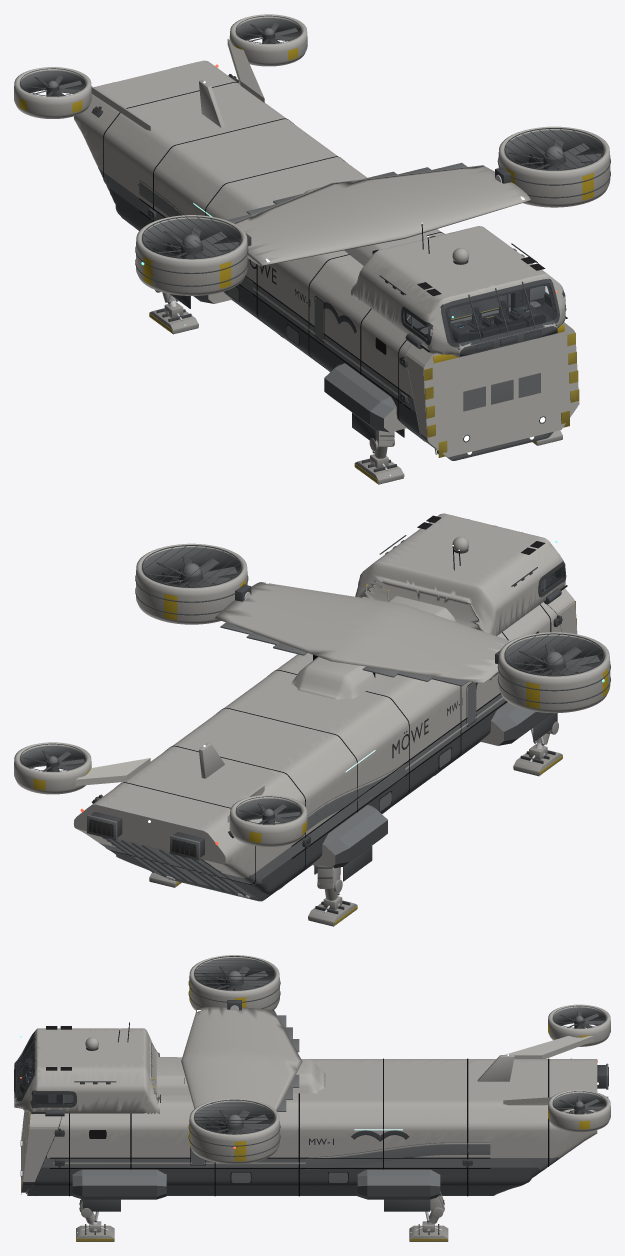
Rendered from Moewe.cd0c9247be.glb.
The picture shows the model from 3 angles, top to bottom: view 1: azimuth 30°, elevation 25°; view 2: azimuth 150°, elevation 25°; view 3: azimuth 270°, elevation 25°; orthographic projection. The views are drawn at different scales.
Visible parts, largest first — view 1: Fahrwerkskasten hinten.002, Haube.001, Mantel.003, Bugplatte.001, Mantel.002, Kanzelglas.001, Duesenblock.008, Duesenrahmen.002, Bandkante.004, Gitterstab.018, Gitterstab.027, cp CP Formteil.001 (+10 smaller); view 2: Fahrwerkskasten hinten.002, Bugplatte.001, Mantel.003, Mantel.002, Duesenrahmen.002, Bandkante.004, Rampenhaut.003, Duesenblock.008, Gitterstab.018, Gitterstab.027, Rampenblatt.003, Bandlinie.002 (+8 smaller); view 3: Fahrwerkskasten hinten.002, Bugplatte.001, Mantel.002, Duesenrahmen.002, Mantel.003, Duesenblock.008, Bandkante.004, Haube.001, Bandlinie.002, Gitterstab.018, Gitterstab.027, Kanzelglas.001 (+10 smaller).
Boxes of the visible parts, x1,y1,x2,y2 form: Fahrwerkskasten hinten.002: (14,14,565,459); Haube.001: (406,322,579,457); Mantel.003: (136,215,247,295); Bugplatte.001: (20,18,552,459); Mantel.002: (498,126,610,207); Kanzelglas.001: (404,284,556,350); Duesenblock.008: (20,15,566,454); Duesenrahmen.002: (47,28,468,454); Bandkante.004: (103,82,444,441); Gitterstab.018: (495,128,610,198); Gitterstab.027: (135,216,251,286); cp CP Formteil.001: (417,289,545,342); Fahrwerkskasten hinten.002: (14,513,565,901); Bugplatte.001: (20,604,555,885); Mantel.003: (498,632,610,713); Mantel.002: (136,543,247,624); Duesenrahmen.002: (47,621,476,860); Bandkante.004: (106,604,551,889); Rampenhaut.003: (107,838,257,898); Duesenblock.008: (20,519,566,857); Gitterstab.018: (135,545,251,615); Gitterstab.027: (495,633,610,703); Rampenblatt.003: (106,838,256,897); Bandlinie.002: (199,536,503,817); Fahrwerkskasten hinten.002: (14,1004,610,1199); Bugplatte.001: (29,1007,605,1190); Mantel.002: (189,1098,279,1164); Duesenrahmen.002: (26,1015,608,1193); Mantel.003: (189,955,279,1010); Duesenblock.008: (14,1005,605,1195); Bandkante.004: (50,1058,549,1196); Haube.001: (21,1111,61,1191); Bandlinie.002: (53,1037,514,1164); Gitterstab.018: (188,1099,280,1156); Gitterstab.027: (188,956,280,1010); Kanzelglas.001: (16,1035,72,1104).
Bounding box in the file's own units: 26.81 × 12.15 × 36.88.
